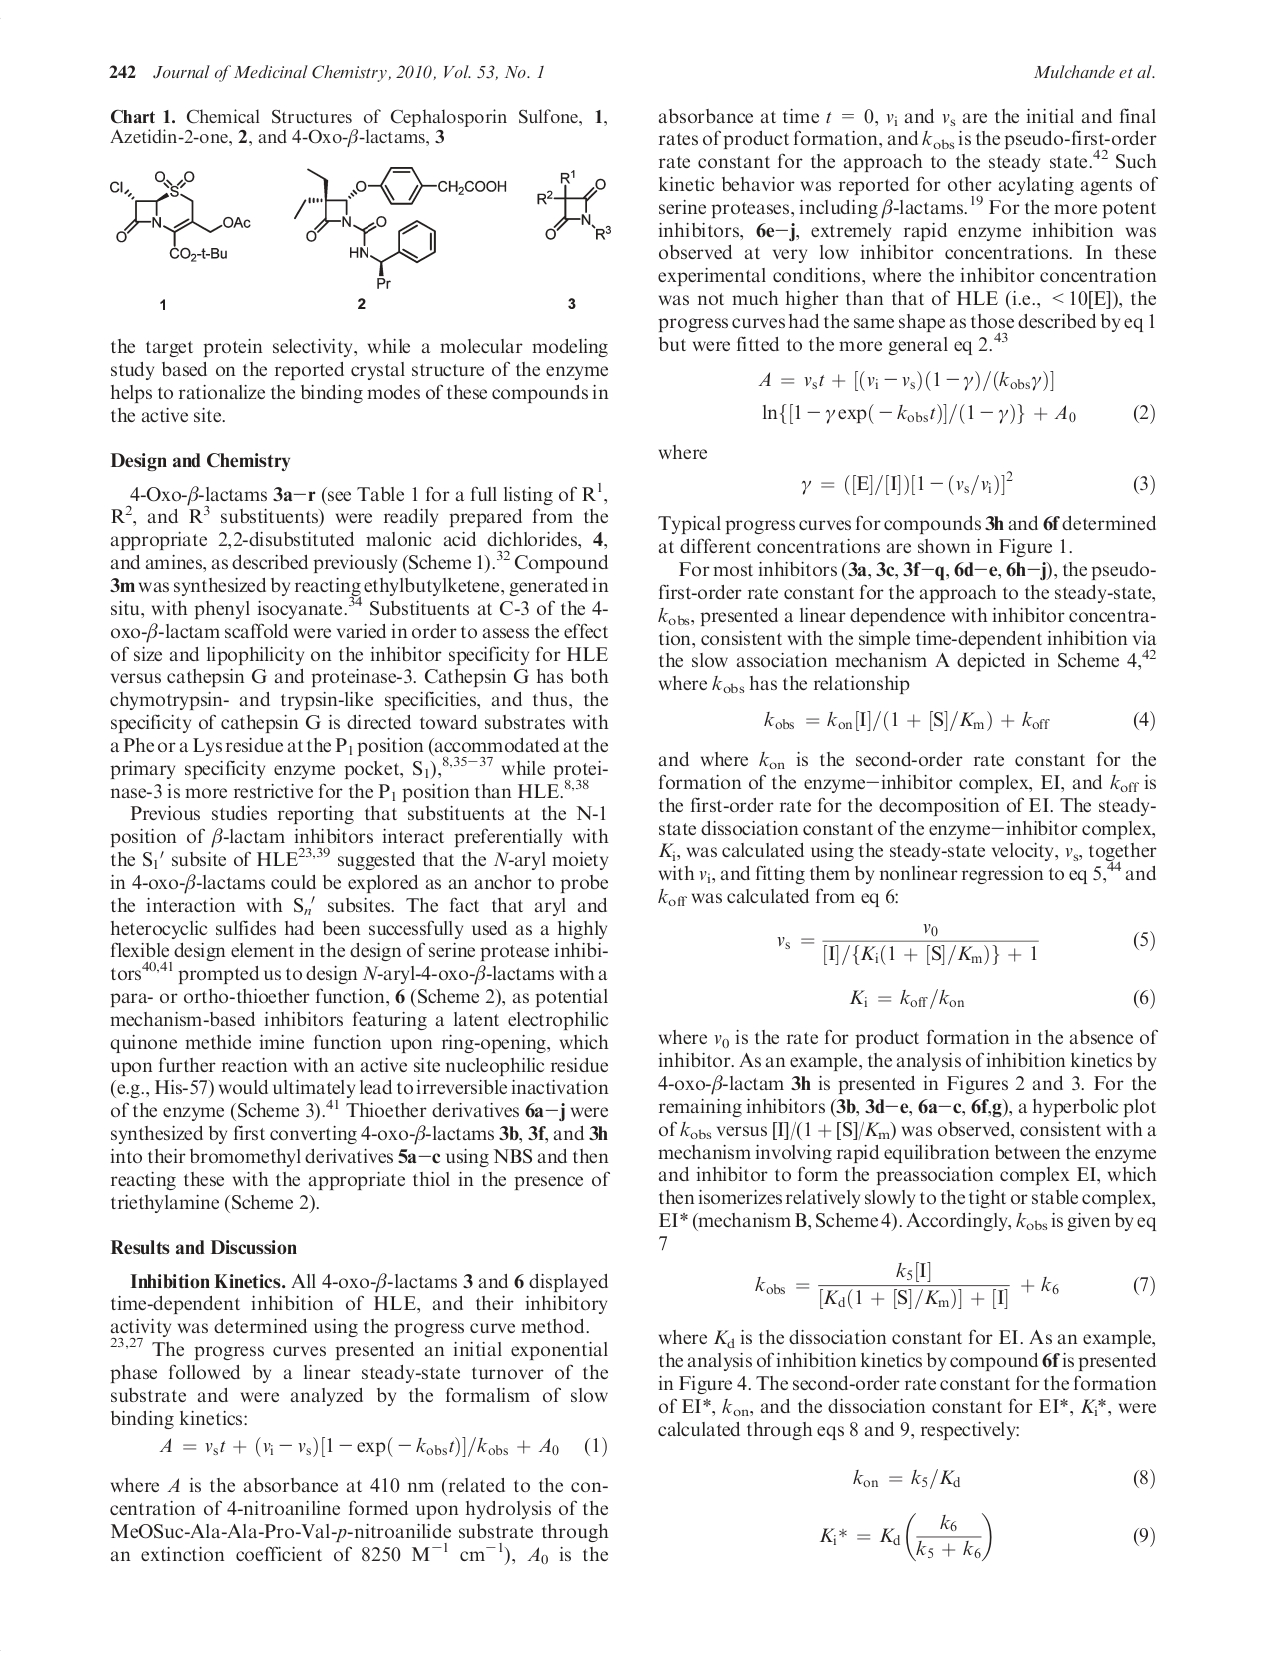exist_molecular: (293, 164, 508, 290), (110, 172, 251, 262), (535, 168, 613, 243)
